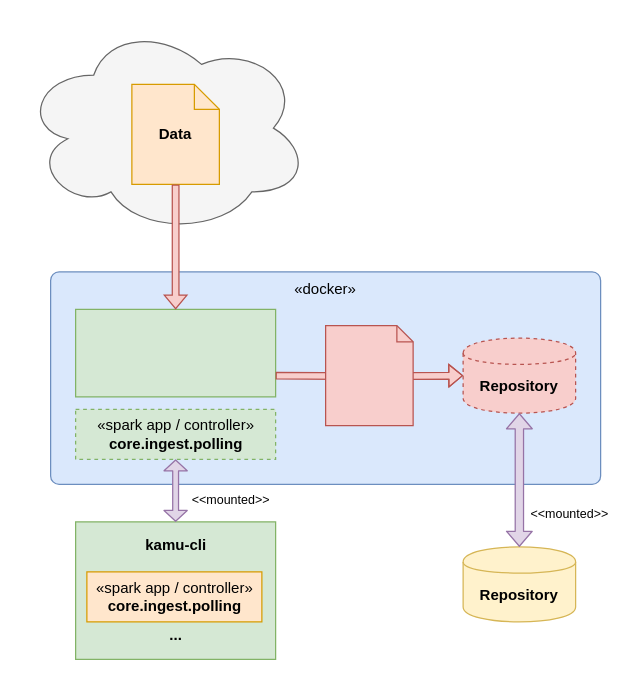
This 629x681 diagram has some shape labels left out. Here are the shapes that lost their labels. From the top down, the centre of each, then its label:
the point at 175,352: Apache Spark
the point at 368,375: «parquet» Root Dataset
